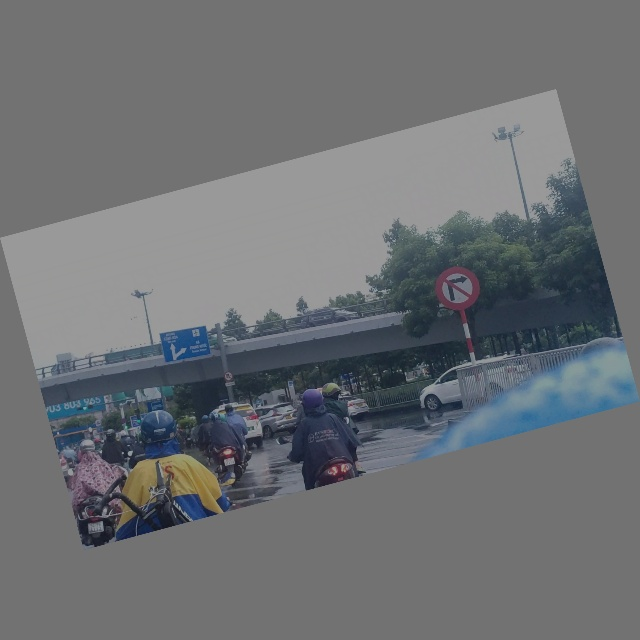P.123b: (430, 261, 485, 316)
P.124b1: (222, 371, 235, 384)
